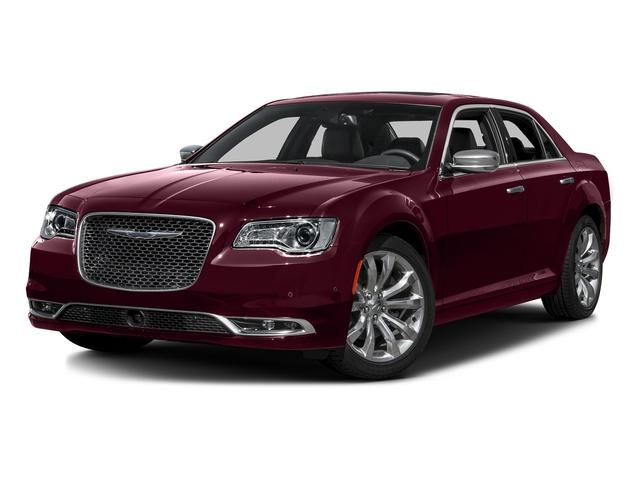windshield: (192, 100, 444, 178)
